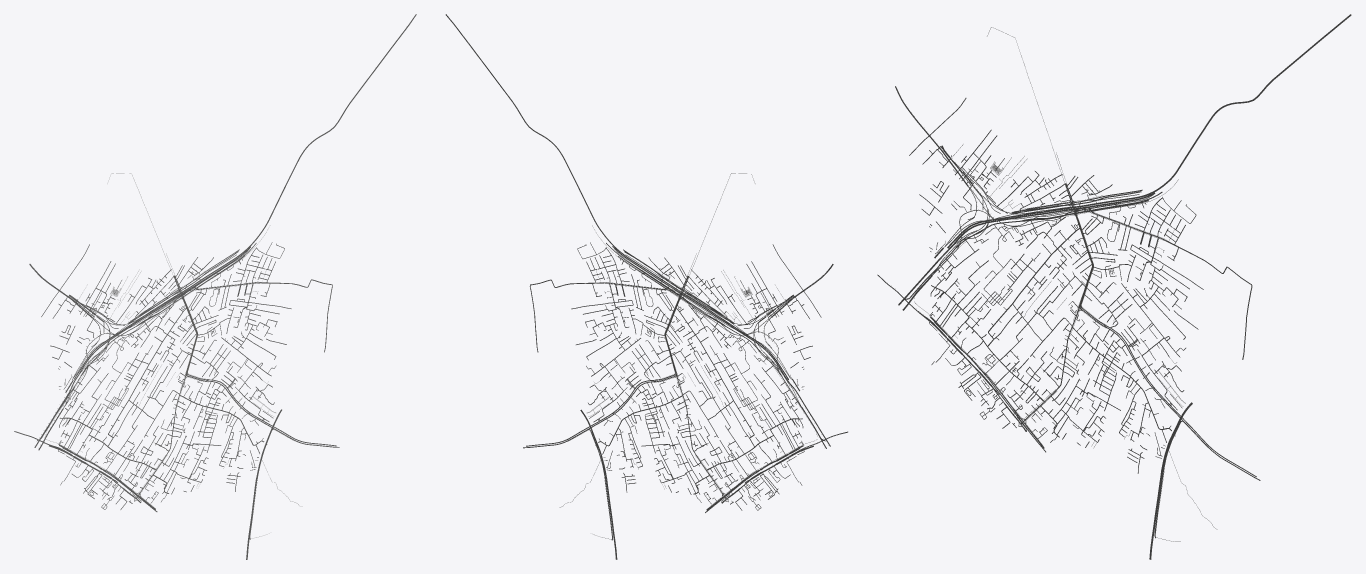
Rendered from roads_4_4.obj.
3 renders of one model, left to right at view 1: azimuth 30°, elevation 25°; view 2: azimuth 150°, elevation 25°; view 3: azimuth 330°, elevation 25°, orthographic. The views are drawn at different scales.
Size of the model in its own units: 3843 by 4597 by 26.55.
Materials: 6 (6 with a texture image).
